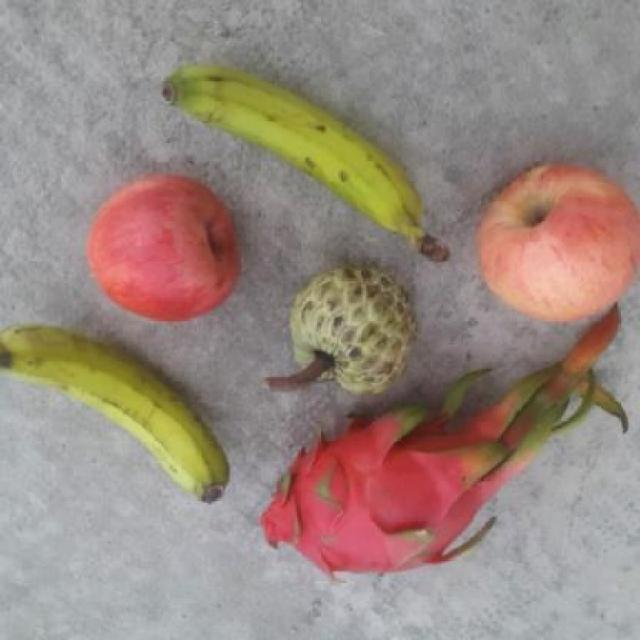apple: (468, 153, 640, 327), (77, 169, 245, 326)
banana: (158, 61, 456, 267), (0, 328, 234, 506)
dragon fruit: (256, 406, 512, 592)
sugar apple: (274, 262, 418, 396)
